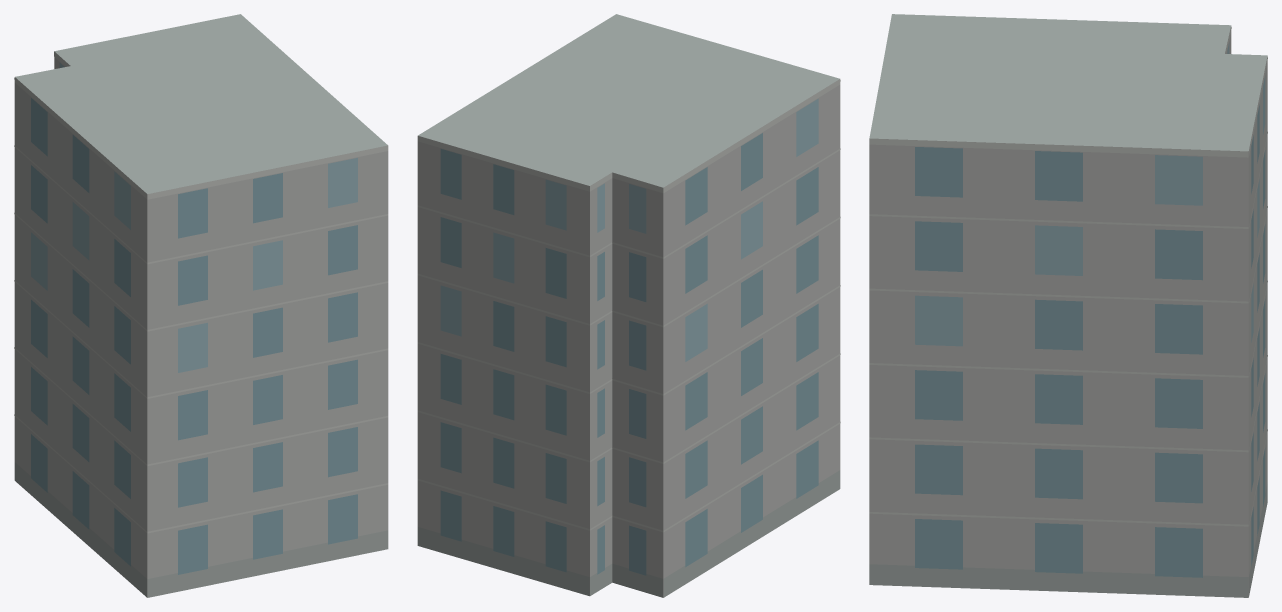
Rendered from survey-upis-33042806.glb.
3 renders of one model, left to right at view 1: azimuth 30°, elevation 25°; view 2: azimuth 150°, elevation 25°; view 3: azimuth 270°, elevation 25°, orthographic. The views are drawn at different scales.
Parts seen in each view (by area): view 1: survey-upis-33042806.tmp; view 2: survey-upis-33042806.tmp; view 3: survey-upis-33042806.tmp.
Part boxes in pixels (x1=…): survey-upis-33042806.tmp: x1=14, y1=14, x2=388, y2=597; survey-upis-33042806.tmp: x1=417, y1=14, x2=840, y2=597; survey-upis-33042806.tmp: x1=869, y1=14, x2=1267, y2=597.
Size of the model in its own units: 11.78 by 17.8 by 14.42.
